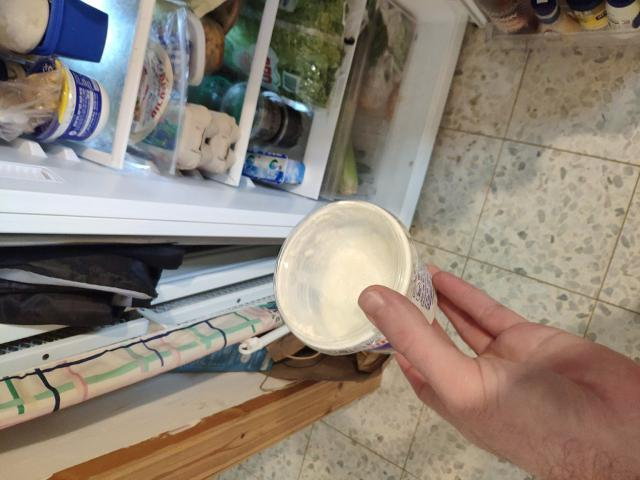cotage: (254, 204, 446, 354)
